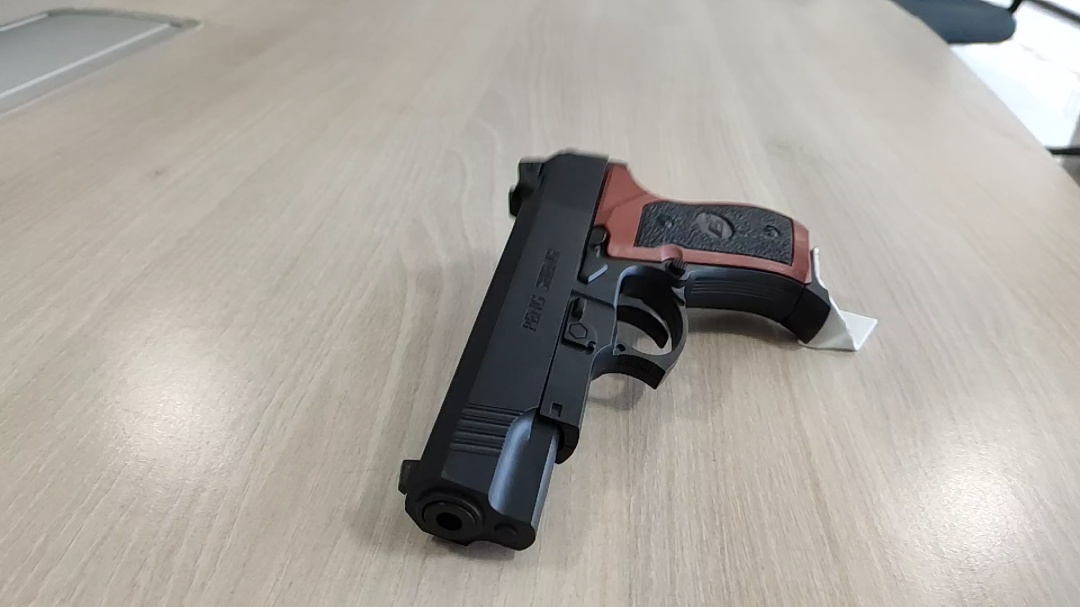gun: (401, 191, 455, 217)
